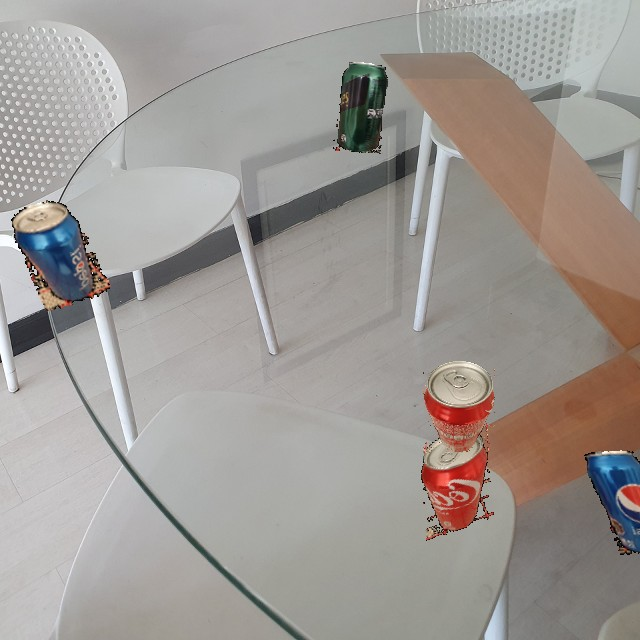coca cola: (417, 423, 495, 541), (423, 361, 496, 453)
pepsi: (2, 191, 112, 315), (581, 440, 640, 567)
schweppes: (333, 61, 389, 155)
